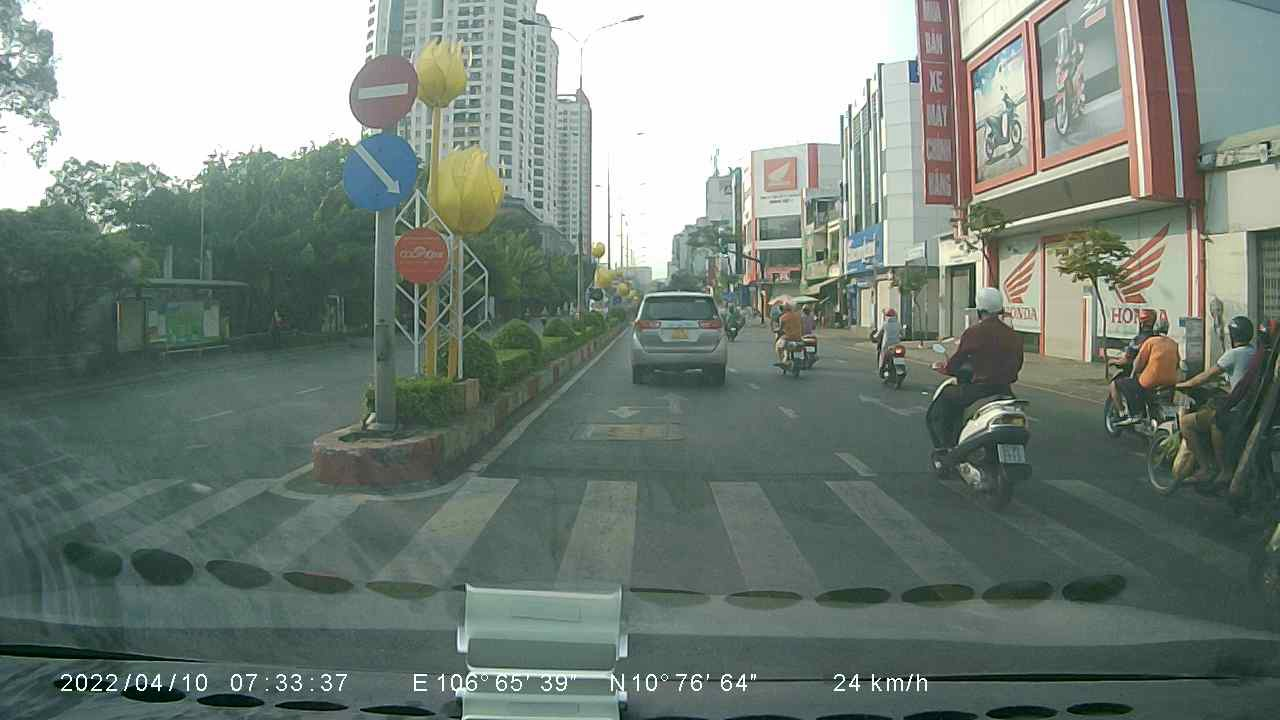Cam di nguoc chieu: (344, 54, 421, 130)
Huong di phai re phai: (339, 135, 425, 208)
